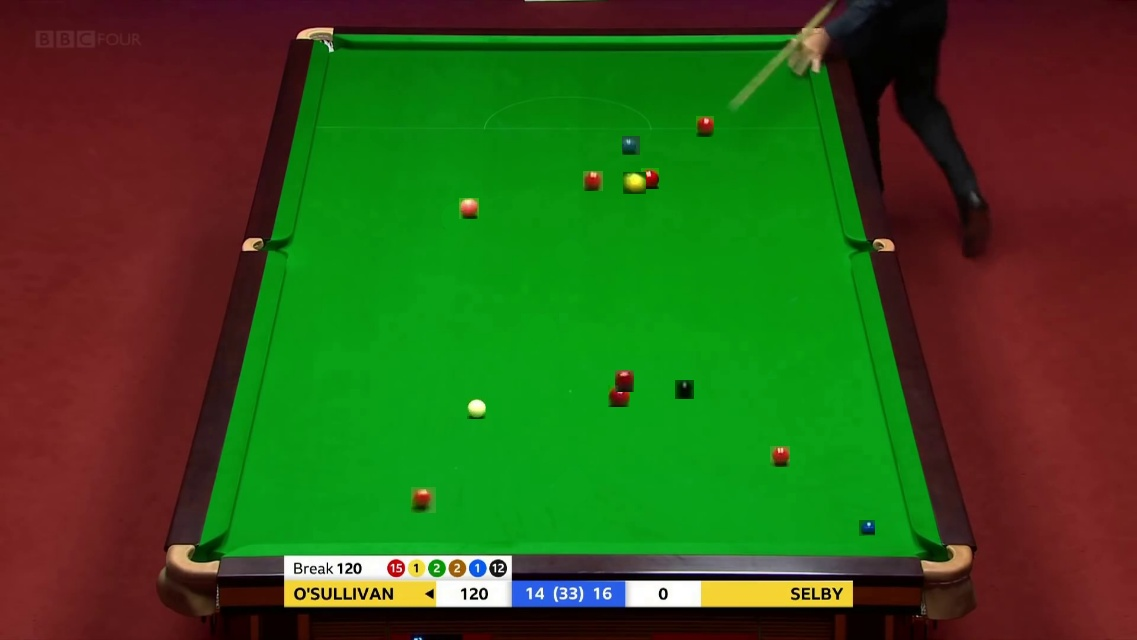black: (675, 380, 694, 399)
blue: (859, 520, 875, 536)
brown: (615, 370, 637, 389)
green: (622, 136, 641, 154)
pink: (459, 198, 480, 218)
red: (411, 487, 437, 512), (608, 385, 630, 407), (770, 446, 791, 466), (583, 171, 603, 191), (696, 116, 717, 134), (641, 168, 662, 186)
white: (467, 398, 488, 417)
yellow: (623, 172, 645, 195)
